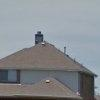Chimney: (28, 28, 60, 53)
